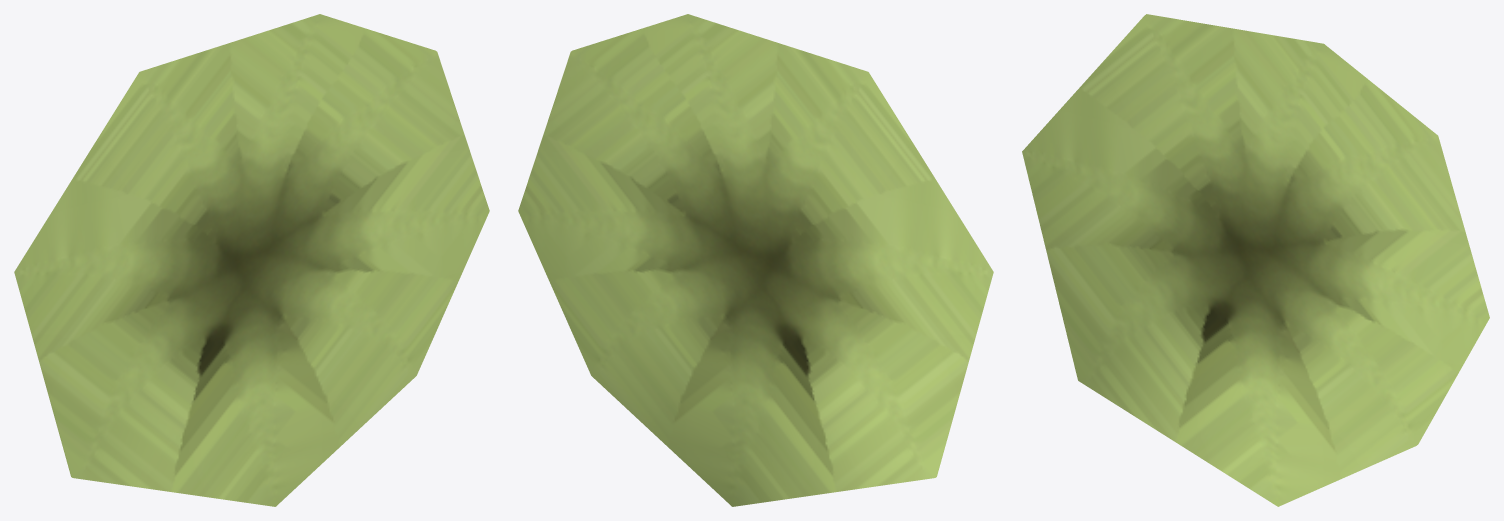
Rendered from painted-weed-021.glb.
The picture shows the model from 3 angles, left to right: view 1: azimuth 30°, elevation 25°; view 2: azimuth 150°, elevation 25°; view 3: azimuth 330°, elevation 25°; orthographic projection.
Size of the model in its own units: 9.95 by 9.64 by 0.04.
Materials: 1 (1 with a texture image).
